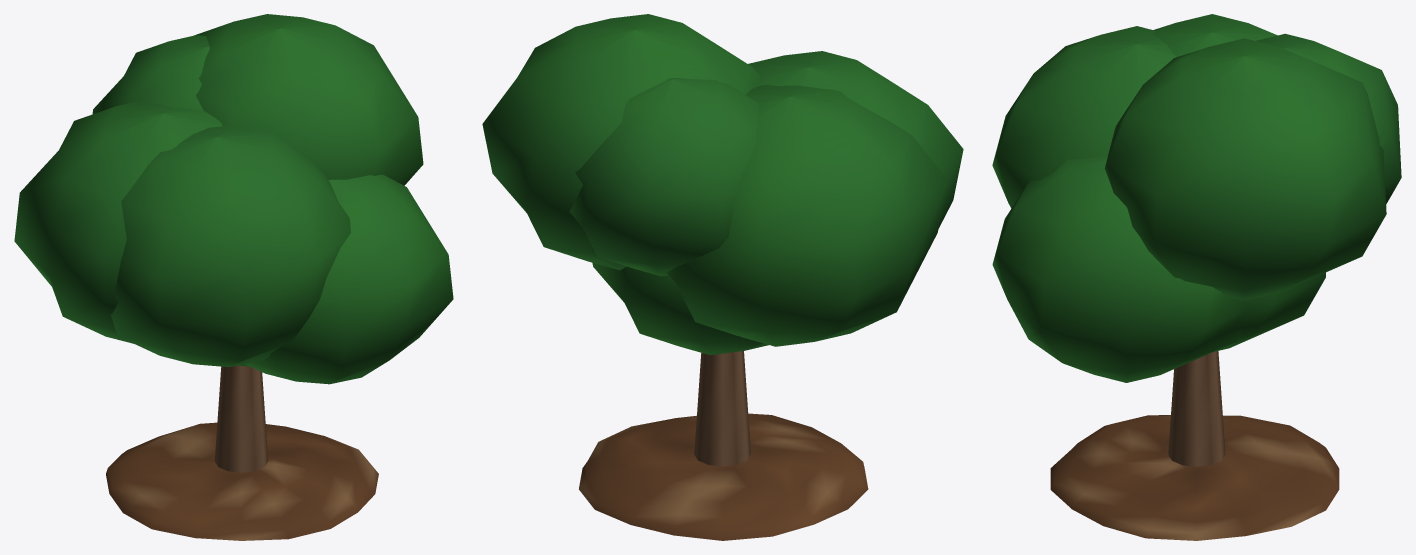
Rendered from plant-apple-3.gltf.
The picture shows the model from 3 angles, left to right: view 1: azimuth 30°, elevation 25°; view 2: azimuth 150°, elevation 25°; view 3: azimuth 270°, elevation 25°; orthographic projection. The views are drawn at different scales.
Bounding box in the file's own units: 1.92 × 2.19 × 1.79.
